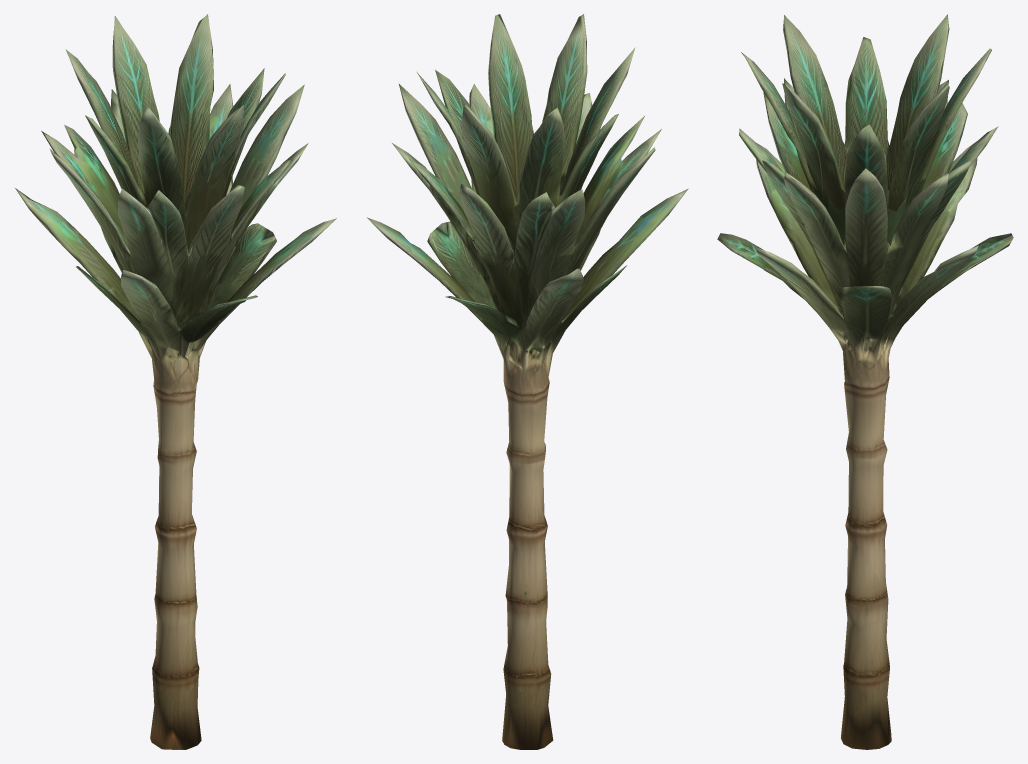
3 views of the same model, side by side, from view 1: azimuth 30°, elevation 25°; view 2: azimuth 150°, elevation 25°; view 3: azimuth 270°, elevation 25° (orthographic).
Parts seen in each view (by area): view 1: Mesh_0; view 2: Mesh_0; view 3: Mesh_0.
Boxes of the visible parts, <box> form: Mesh_0: <box>15,14,336,749</box>; Mesh_0: <box>367,14,688,749</box>; Mesh_0: <box>717,14,1013,749</box>.
Bounding box in the file's own units: 0.753 × 1.91 × 0.7437.
Materials: 1 (1 with a texture image).
